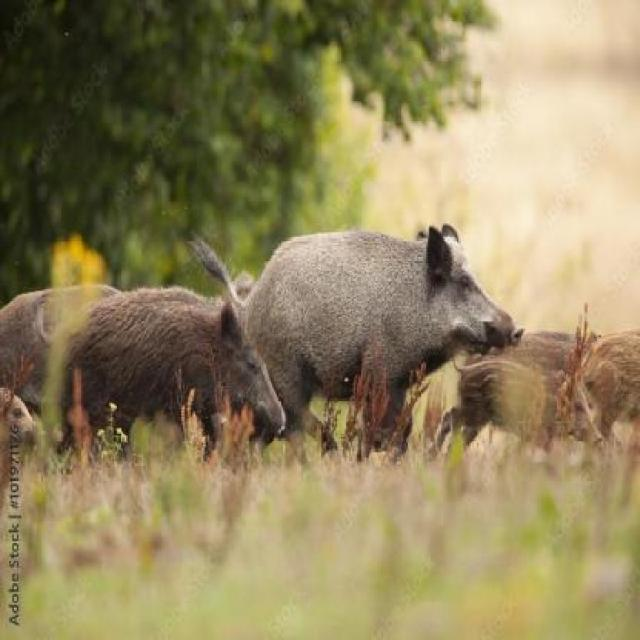wildboar: (188, 218, 528, 477), (51, 278, 286, 479), (0, 280, 160, 458), (426, 349, 609, 473), (490, 322, 618, 446), (567, 325, 640, 454), (0, 382, 43, 482)
